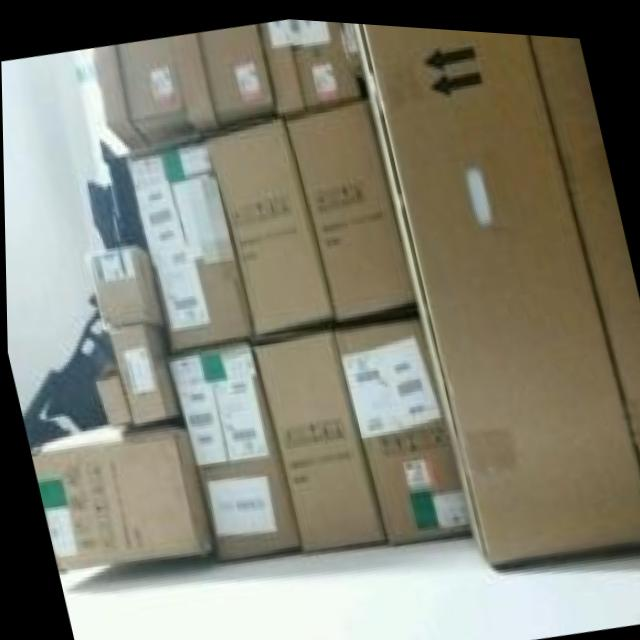box: (353, 19, 640, 555), (529, 28, 640, 455), (280, 93, 420, 321), (331, 312, 471, 538), (165, 334, 303, 559), (252, 319, 385, 549), (29, 414, 212, 574), (123, 132, 252, 349), (206, 113, 334, 329), (91, 34, 204, 147), (170, 23, 279, 133), (255, 15, 369, 110), (104, 318, 175, 424), (85, 243, 162, 327), (90, 365, 133, 425)
